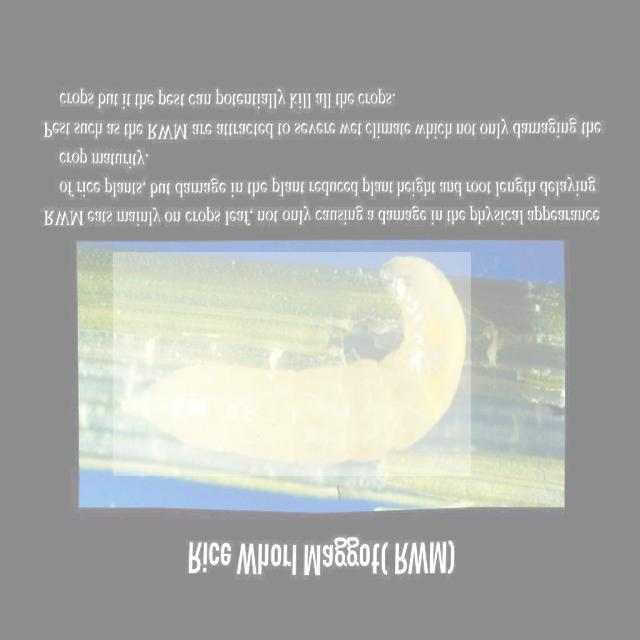whorl-maggot: (113, 252, 471, 476)
